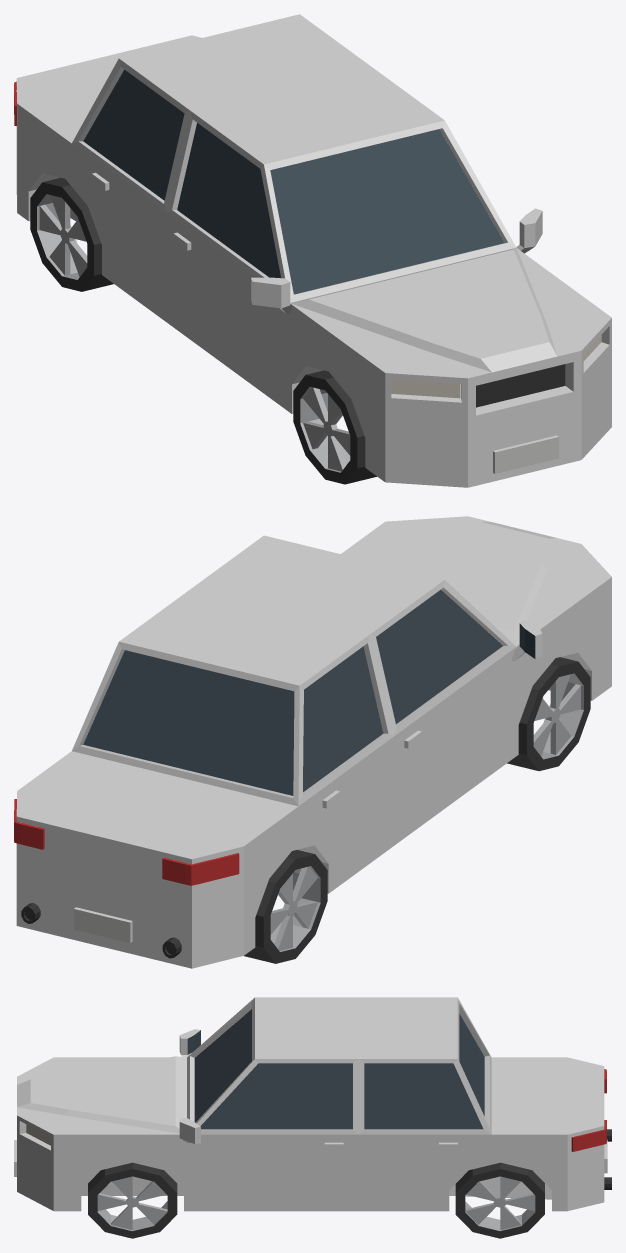
Rendered from sedan.glb.
3 renders of one model, top to bottom at view 1: azimuth 30°, elevation 25°; view 2: azimuth 150°, elevation 25°; view 3: azimuth 270°, elevation 25°, orthographic. The views are drawn at different scales.
Parts seen in each view (by area): view 1: paint, fixed; view 2: paint, fixed; view 3: paint, fixed.
Boxes of the visible parts, x1=… form: paint: x1=16, y1=14, x2=611, y2=487; fixed: x1=14, y1=69, x2=601, y2=484; paint: x1=16, y1=516, x2=611, y2=968; fixed: x1=14, y1=589, x2=590, y2=963; paint: x1=14, y1=997, x2=607, y2=1211; fixed: x1=26, y1=1009, x2=611, y2=1238.
Bounding box in the file's own units: 1.8 × 1.45 × 4.6.
